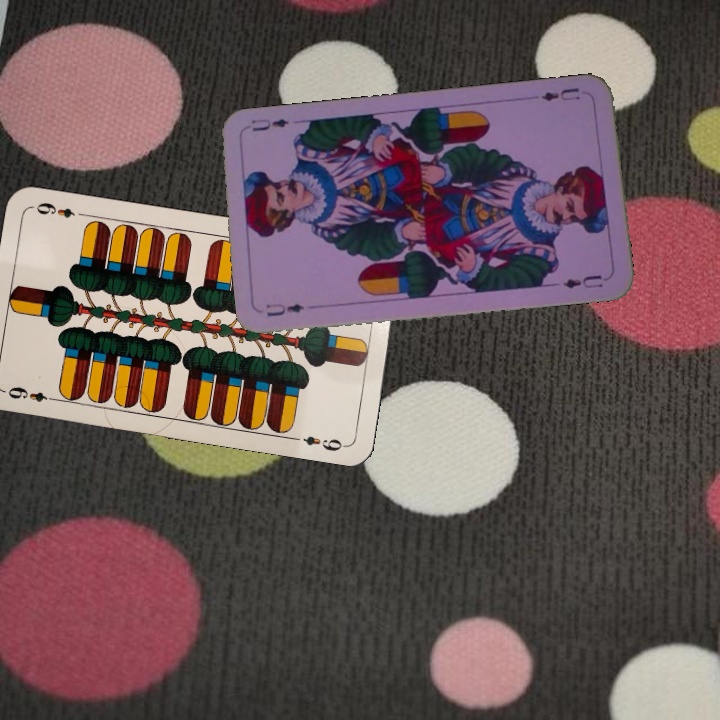E9: (4, 382, 61, 405)
EU: (537, 83, 583, 104), (262, 299, 307, 319)
